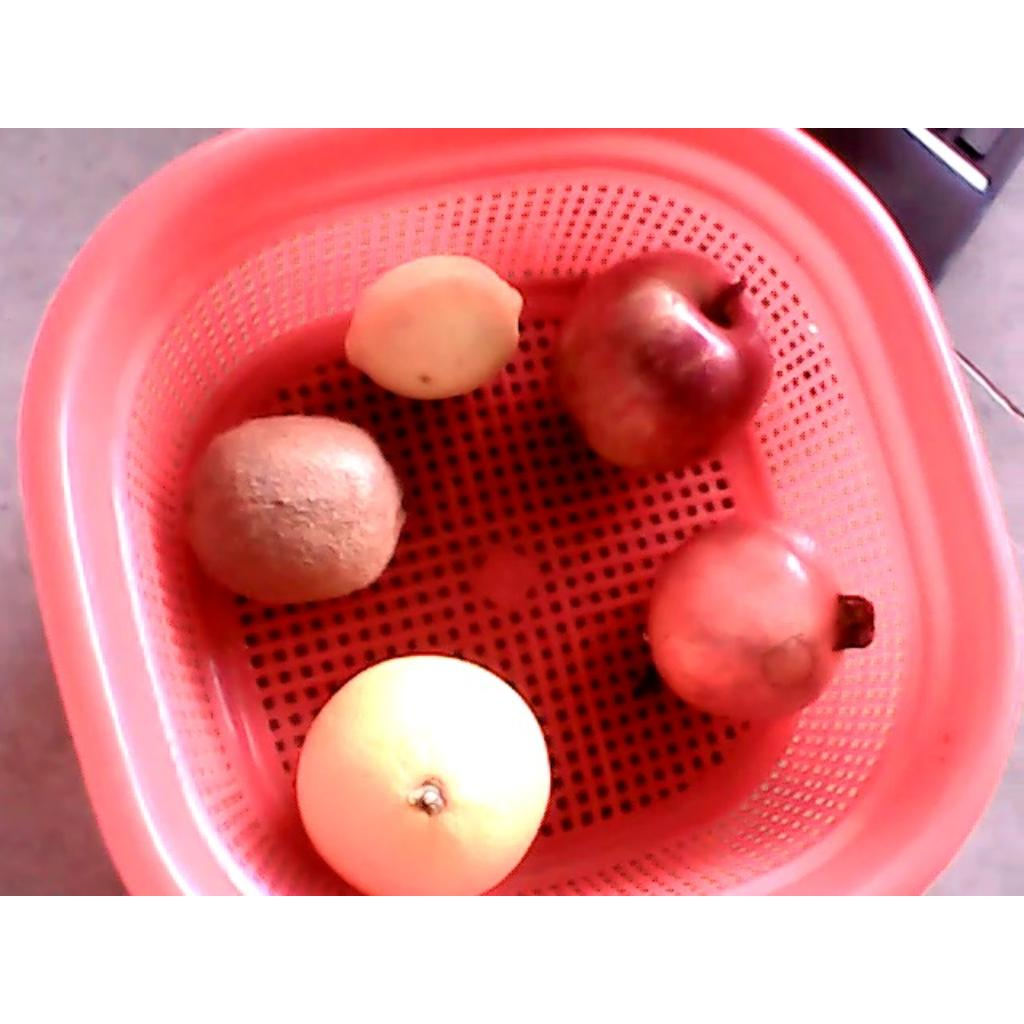apple: (553, 251, 778, 473)
kiwi: (179, 416, 408, 606)
lemon: (344, 254, 525, 397)
orange: (295, 654, 552, 894)
pomegranate: (646, 513, 873, 726)
